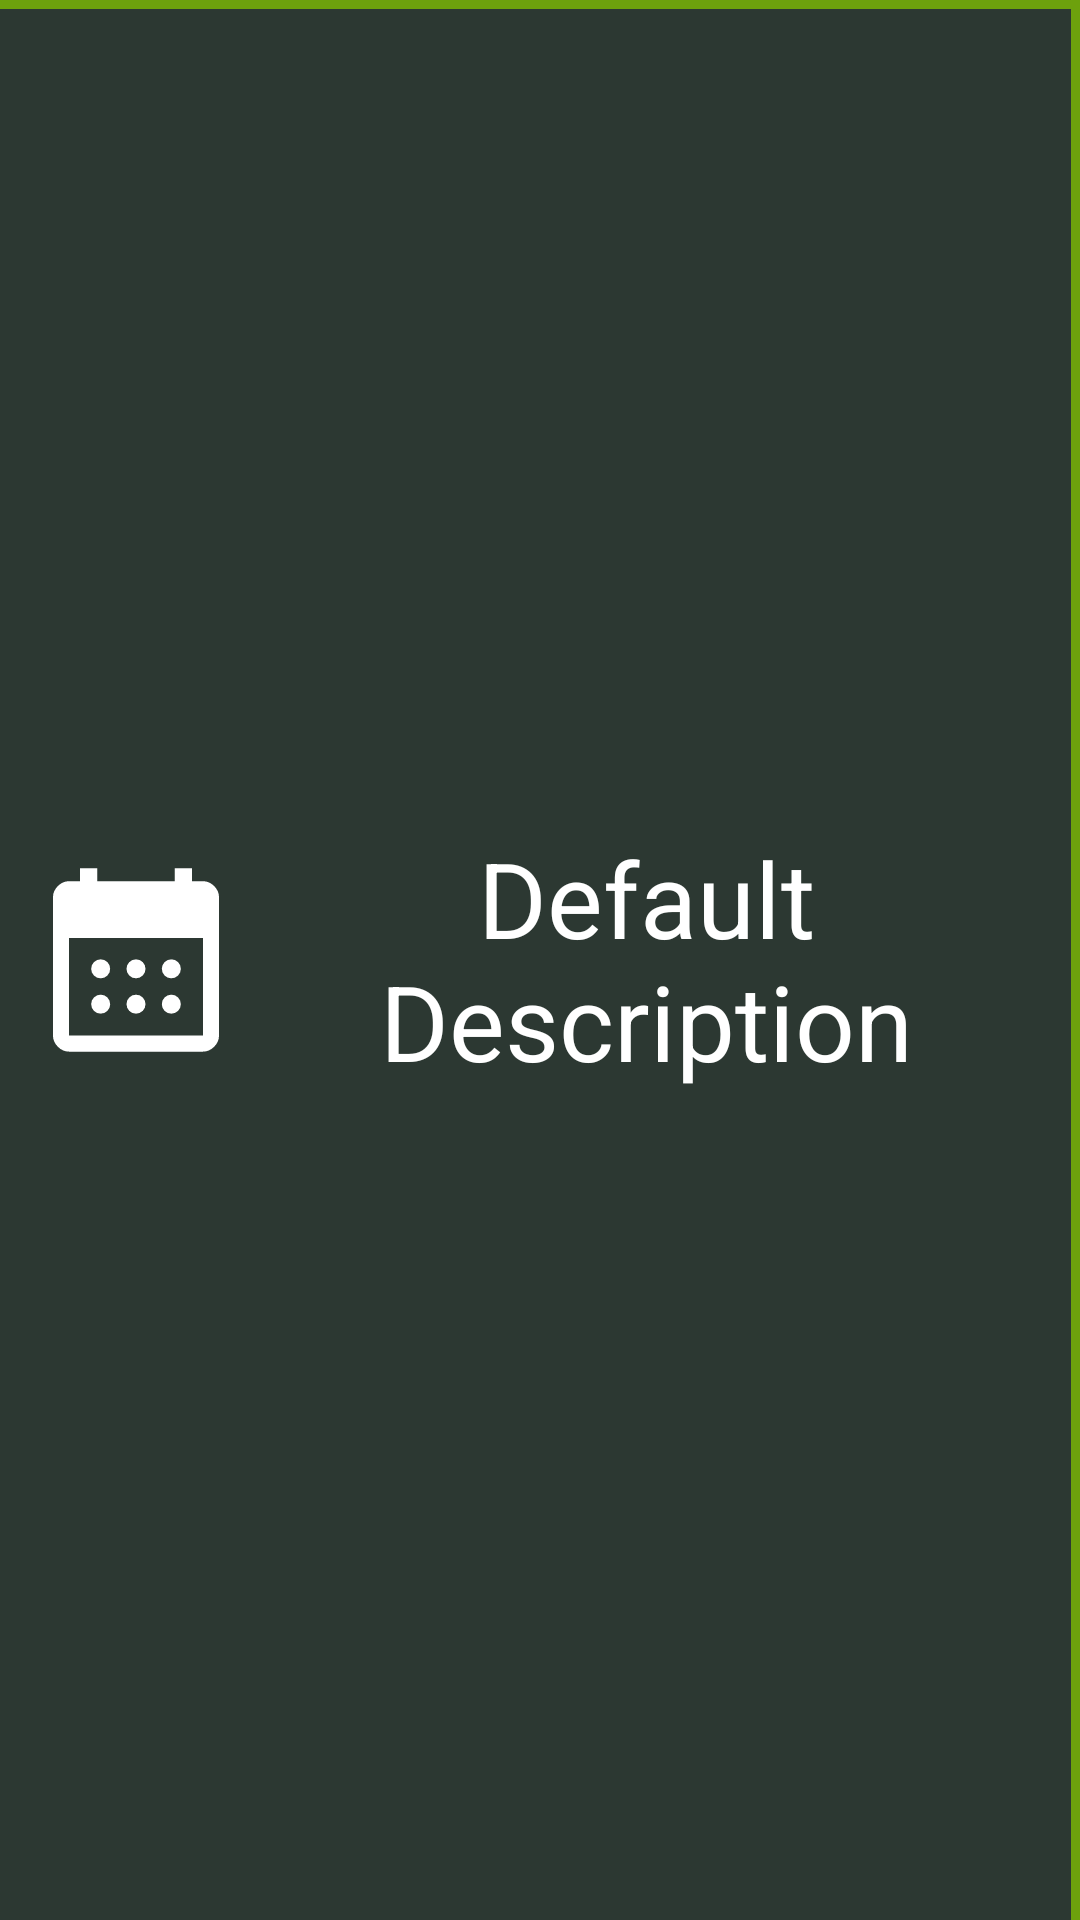

Icons on this 1080x1920 Android screen, each with its box as BBox(x1, y1, x2, y2):
calendar month: BBox(53, 868, 219, 1052)
